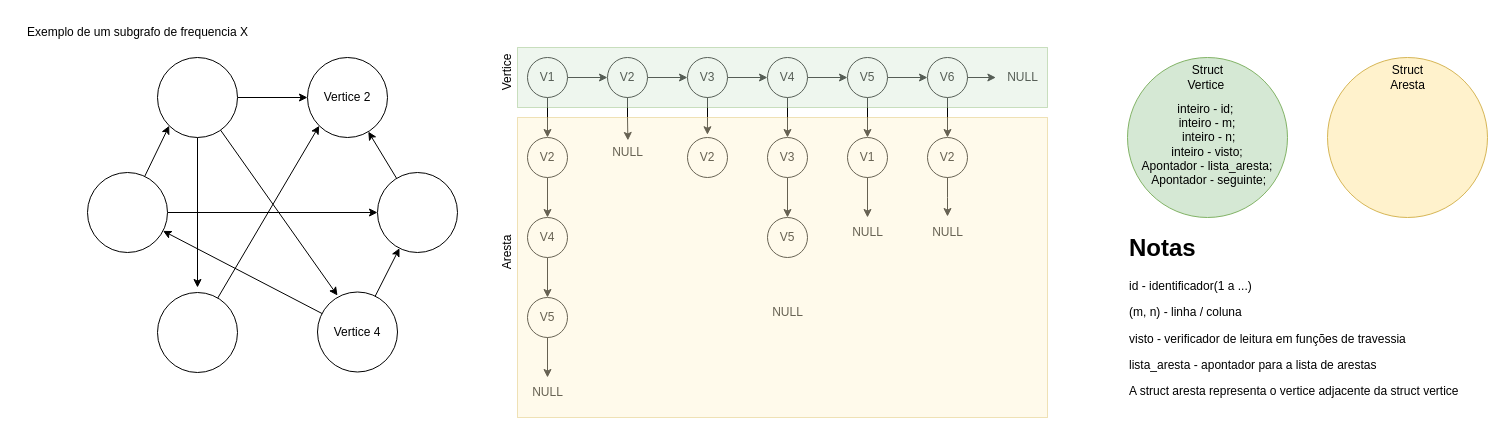
Image size: 1505x437. Some labels were removed from this diagram. The box of each missing label's shape, as (x1, y1, x2, y2) in pixels:
inteiro - id; inteiro - m; inteiro - n; inteiro - visto; Apontador - seguinte ;: (1326, 56, 1488, 218)
Vertice 1: (156, 56, 238, 138)
Vertice 3: (376, 172, 458, 252)
Vertice 5: (86, 172, 168, 252)
Vertice 6: (156, 292, 238, 372)
